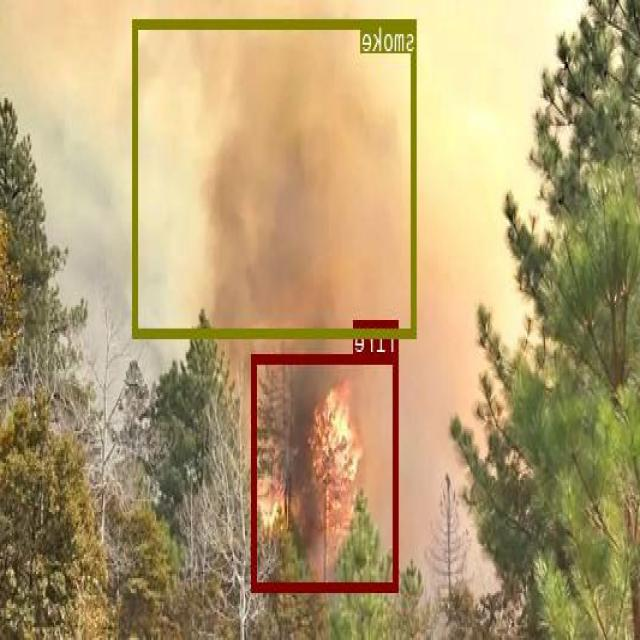fire: (252, 353, 400, 590)
smoke: (134, 19, 418, 337)
